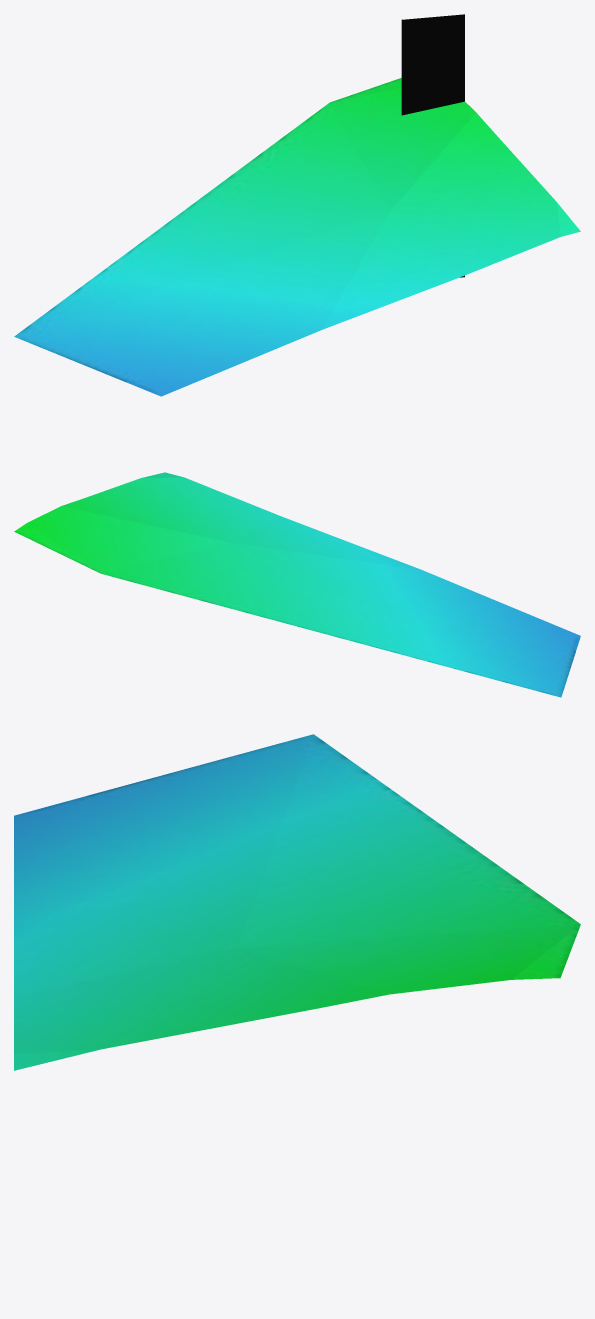
The picture shows the model from 3 angles, top to bottom: view 1: azimuth 30°, elevation 25°; view 2: azimuth 150°, elevation 25°; view 3: azimuth 270°, elevation 25°; orthographic projection. The views are drawn at different scales.
Size of the model in its own units: 17.32 by 9 by 9.81.
Materials: 2 (2 with a texture image).
